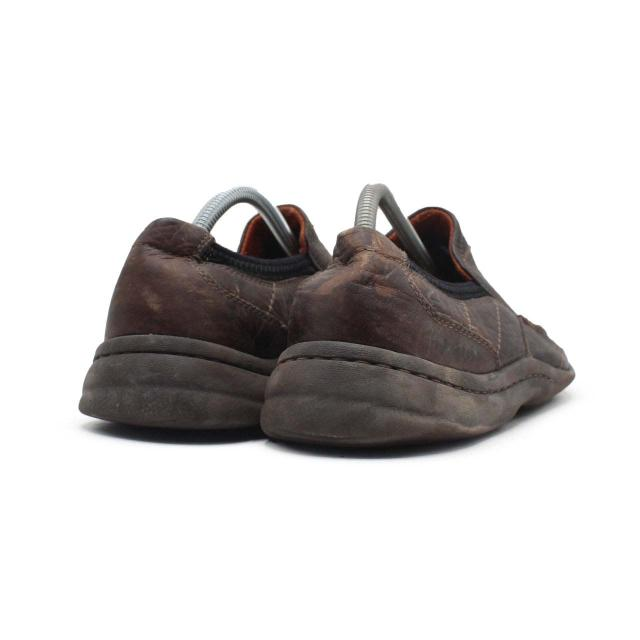heel: (284, 228, 464, 366), (105, 219, 257, 357)
midsole: (263, 341, 574, 448), (77, 336, 277, 439)
